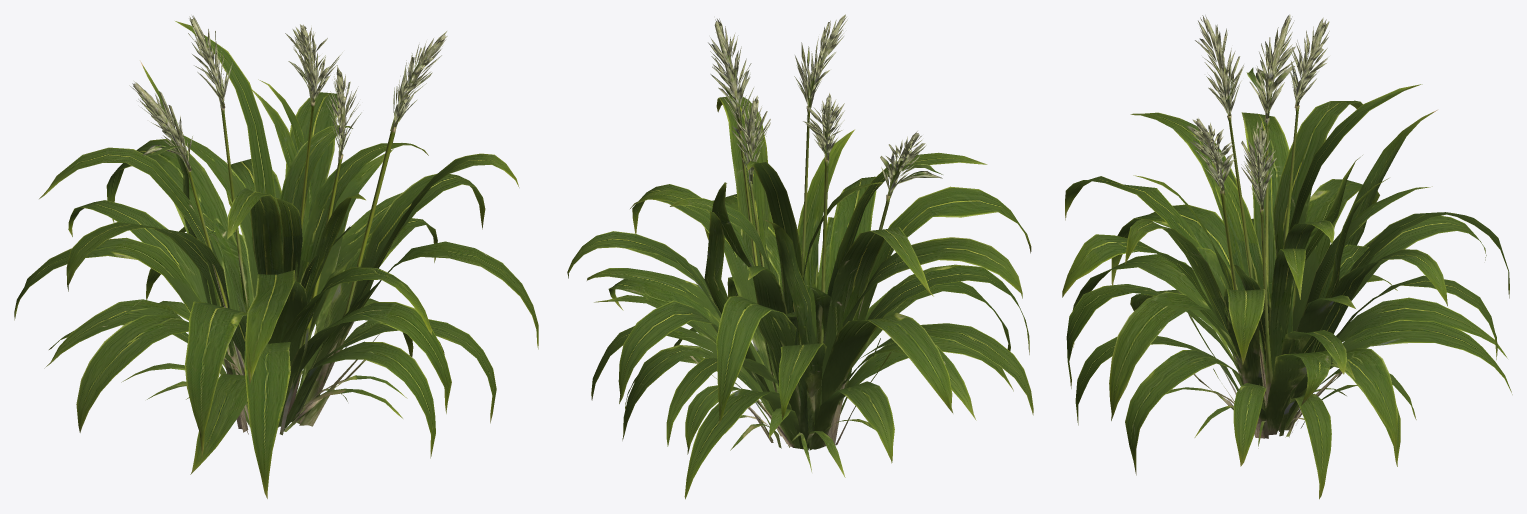
The model's file is midori_swaying_meadow_grass_v1.glb.
3 renders of one model, left to right at view 1: azimuth 30°, elevation 25°; view 2: azimuth 150°, elevation 25°; view 3: azimuth 270°, elevation 25°, orthographic. The views are drawn at different scales.
Bounding box in the file's own units: 1 × 0.998 × 0.9961.
1 material, 1 textured.
